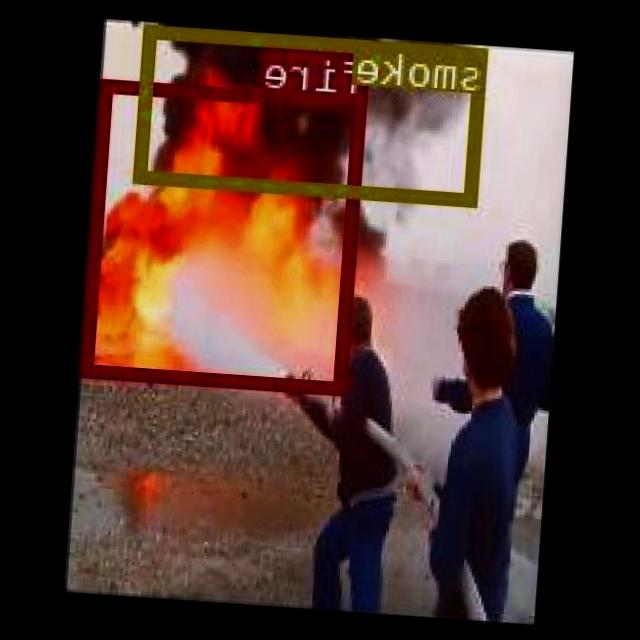fire: (84, 77, 370, 392)
smoke: (137, 24, 489, 202)
